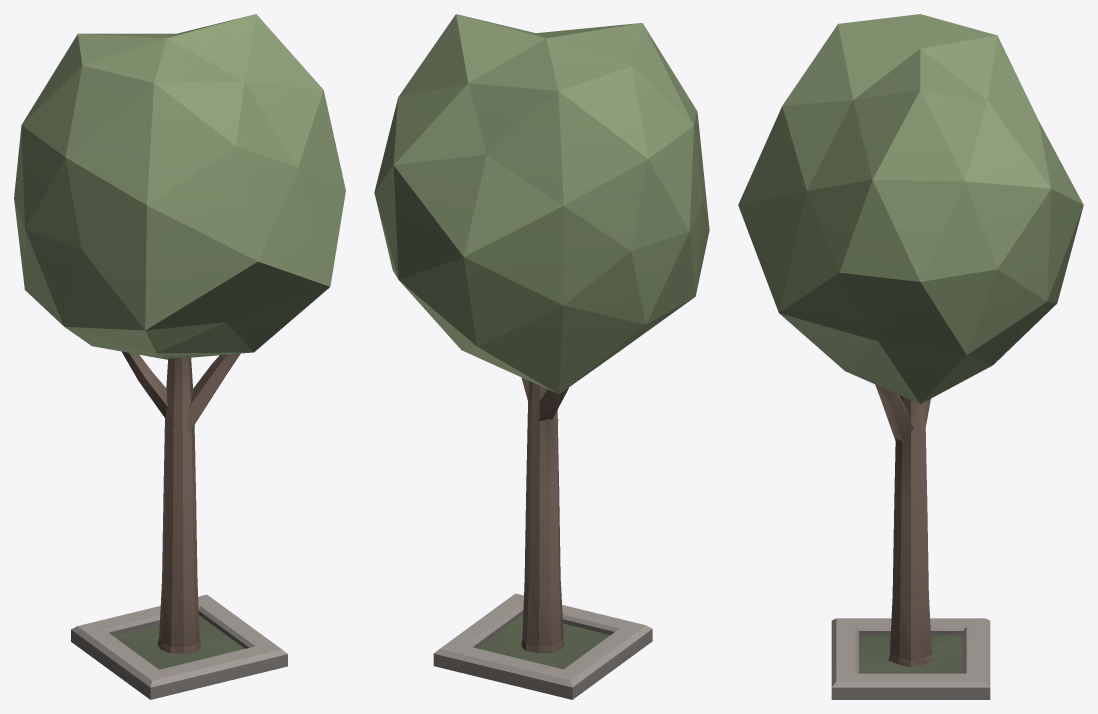
The model's file is tree.glb.
3 renders of one model, left to right at view 1: azimuth 30°, elevation 25°; view 2: azimuth 150°, elevation 25°; view 3: azimuth 270°, elevation 25°, orthographic.
Parts seen in each view (by area): view 1: tree; view 2: tree; view 3: tree.
Part boxes in pixels (x1,y1,x2,y2): tree: (14,14,345,699); tree: (374,14,709,699); tree: (738,14,1083,699).
Bounding box in the file's own units: 3.05 × 6 × 3.05.
